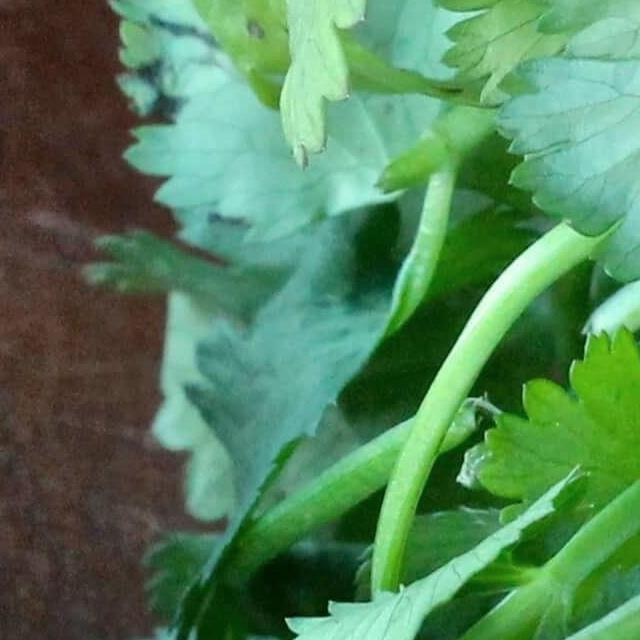cilantro: (238, 0, 640, 640)
